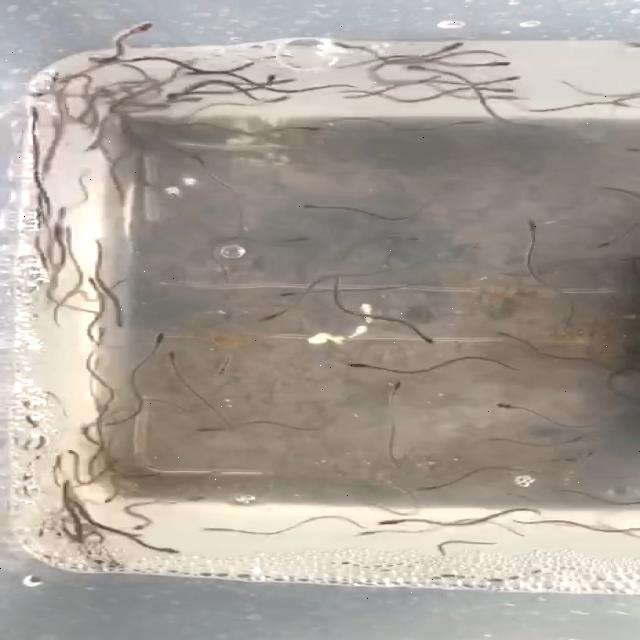inactive_glass_eel: (248, 123, 322, 143), (250, 306, 302, 332), (308, 200, 366, 222), (425, 36, 477, 58), (174, 416, 226, 438), (197, 355, 255, 374), (346, 354, 386, 380), (571, 445, 620, 465), (447, 116, 498, 135), (488, 326, 532, 348), (507, 212, 544, 238), (110, 16, 161, 34), (93, 54, 137, 74), (106, 98, 156, 115), (274, 230, 322, 247), (390, 330, 441, 346), (578, 233, 614, 255), (488, 403, 530, 421), (156, 352, 196, 370), (376, 377, 412, 396), (120, 514, 158, 532), (170, 89, 207, 105), (90, 490, 126, 506), (266, 286, 310, 298), (489, 59, 521, 75), (150, 332, 184, 347), (488, 72, 528, 84), (256, 72, 286, 88), (373, 515, 407, 529), (145, 548, 184, 560), (402, 62, 429, 78), (489, 88, 518, 102), (351, 528, 382, 540), (385, 476, 421, 486), (556, 436, 592, 446), (415, 487, 450, 497), (116, 313, 136, 329), (56, 445, 80, 458), (73, 280, 102, 290), (60, 91, 66, 139)
